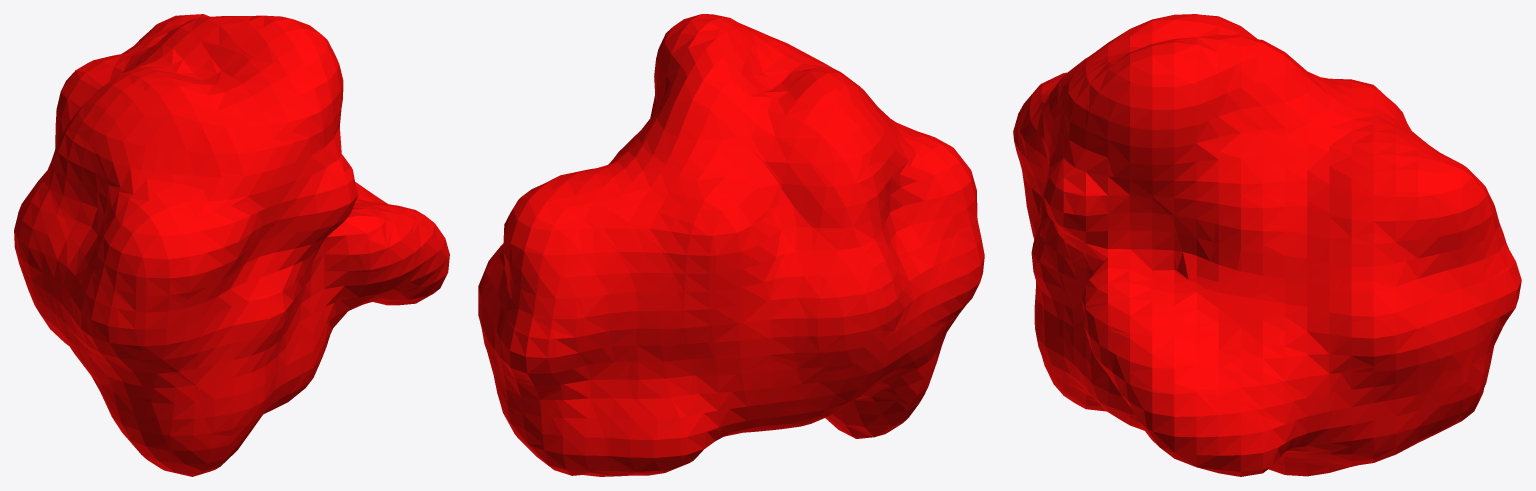
File: ribB_coarse.dae
The picture shows the model from 3 angles, left to right: view 1: azimuth 30°, elevation 25°; view 2: azimuth 150°, elevation 25°; view 3: azimuth 270°, elevation 25°; orthographic projection. The views are drawn at different scales.
Visible parts, largest first — view 1: ribB; view 2: ribB; view 3: ribB.
Part boxes in pixels (bbox=[...]): ribB: bbox=[14, 14, 449, 476]; ribB: bbox=[478, 14, 984, 476]; ribB: bbox=[1013, 14, 1521, 476].
Size of the model in its own units: 46.97 by 44.76 by 48.3.
